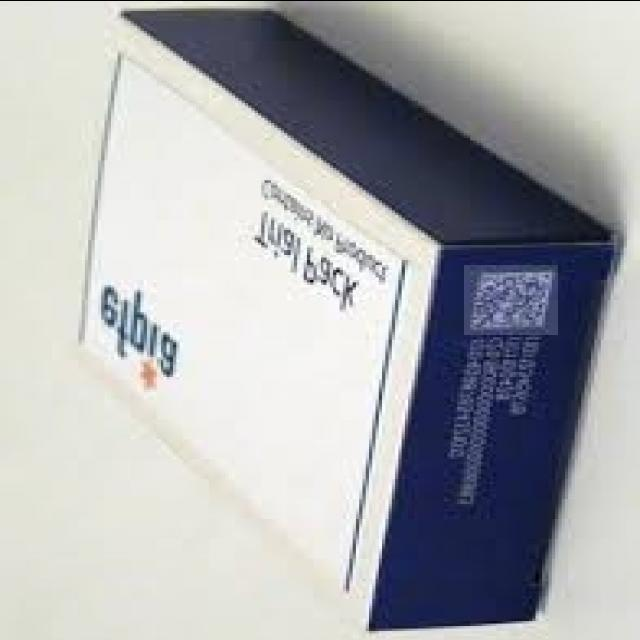Data-Matrix: (464, 264, 558, 334)
